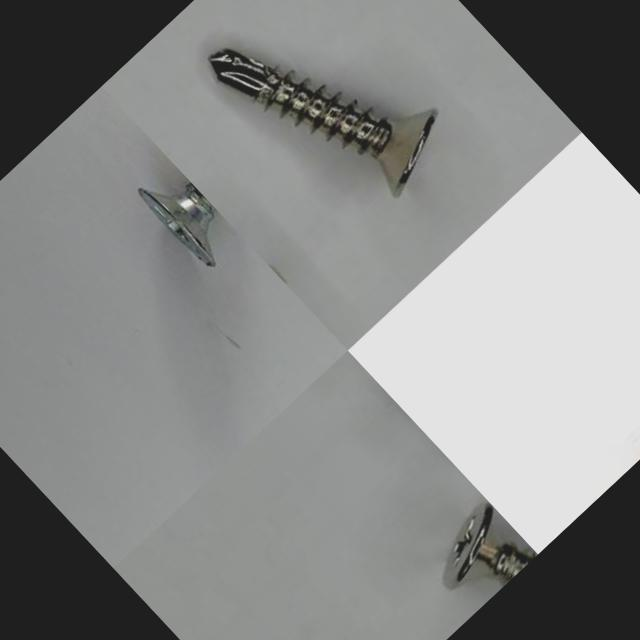Screw: (209, 50, 436, 198), (445, 506, 535, 587), (139, 183, 219, 267)
